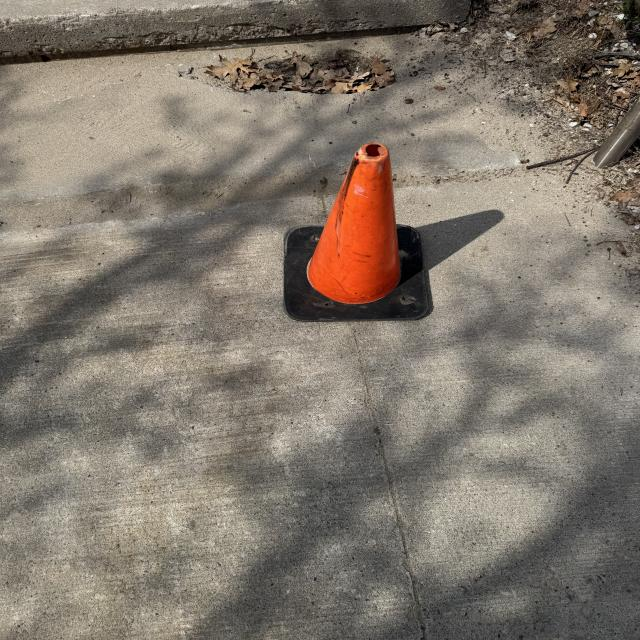Traffic Cone: (285, 142, 436, 323)
